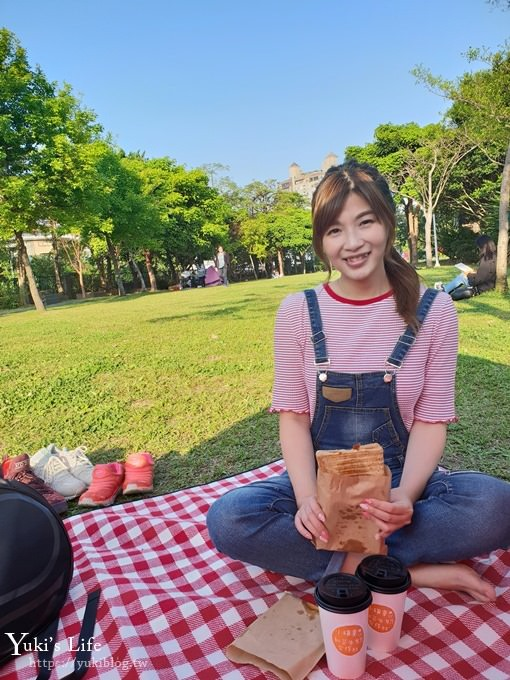people: (226, 165, 510, 595)
